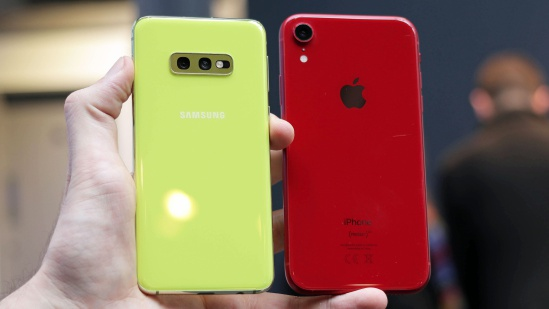apple: (329, 70, 374, 119)
